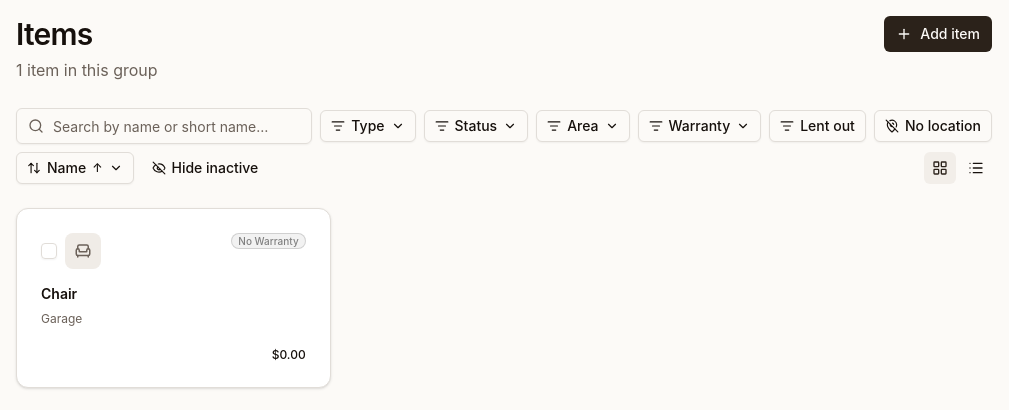
Scenario: <CommoditiesListPage /> › clears all active filters via Clear filters
This screenshot has width=1009, height=410.
expect the element with test id "commodity-card" is shown: met, box [16,208,331,388]
Step 1. Click the button with test id "commodities-filter-type" → (368, 126), box [320,110,416,142]
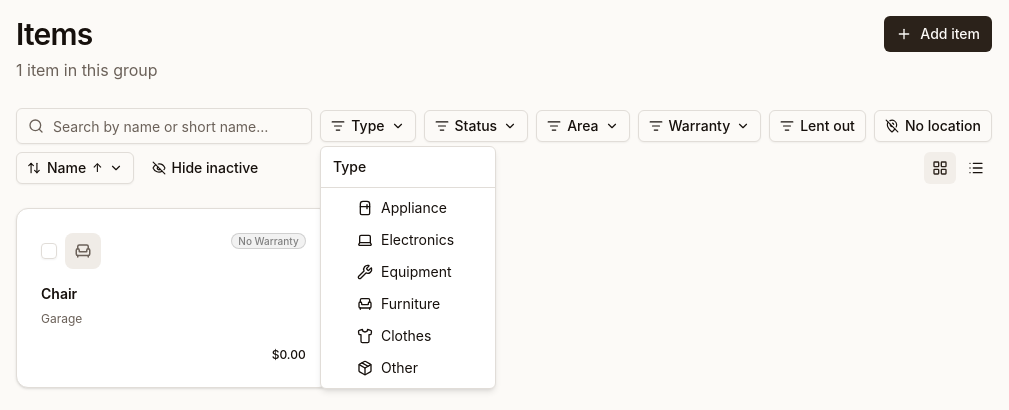
Step 2. Click the menu item "Furniture" → (399, 304), box [357,295,440,312]
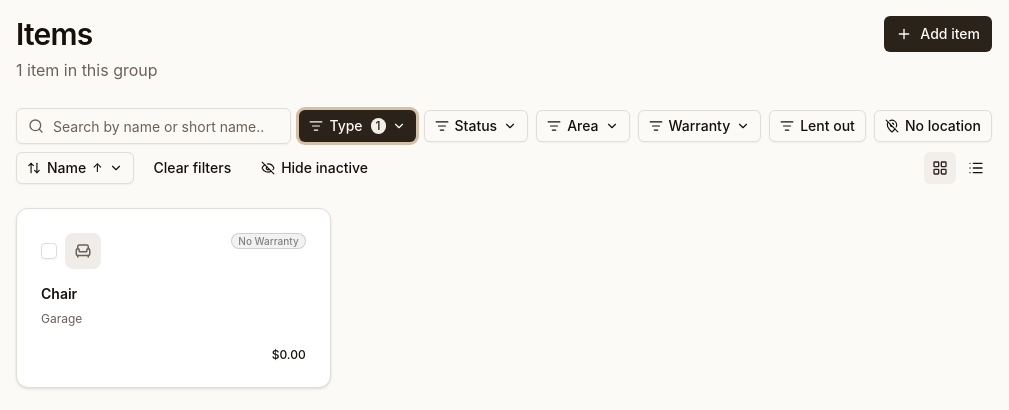
expect the button with test id "commodities-clear-filters" is shown: met
Step 3. Click the button with test id "commodities-clear-filters" → (192, 168), box [142,152,243,184]
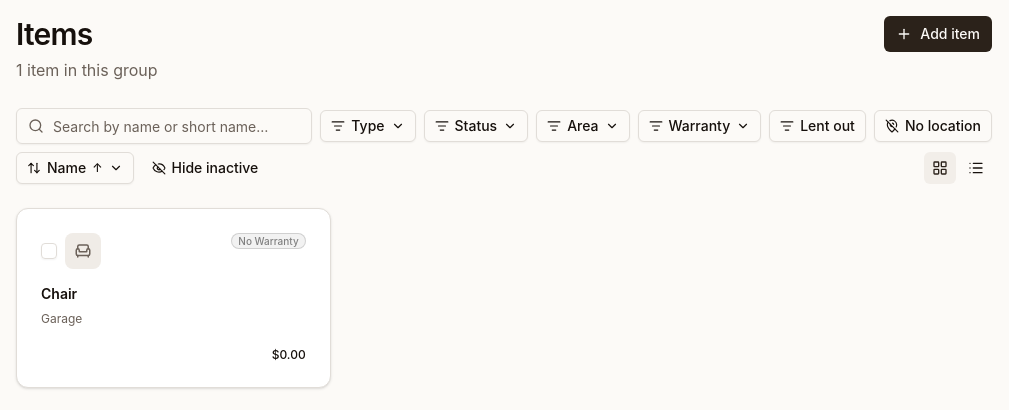
expect the button with test id "commodities-clear-filters" is gone: met
